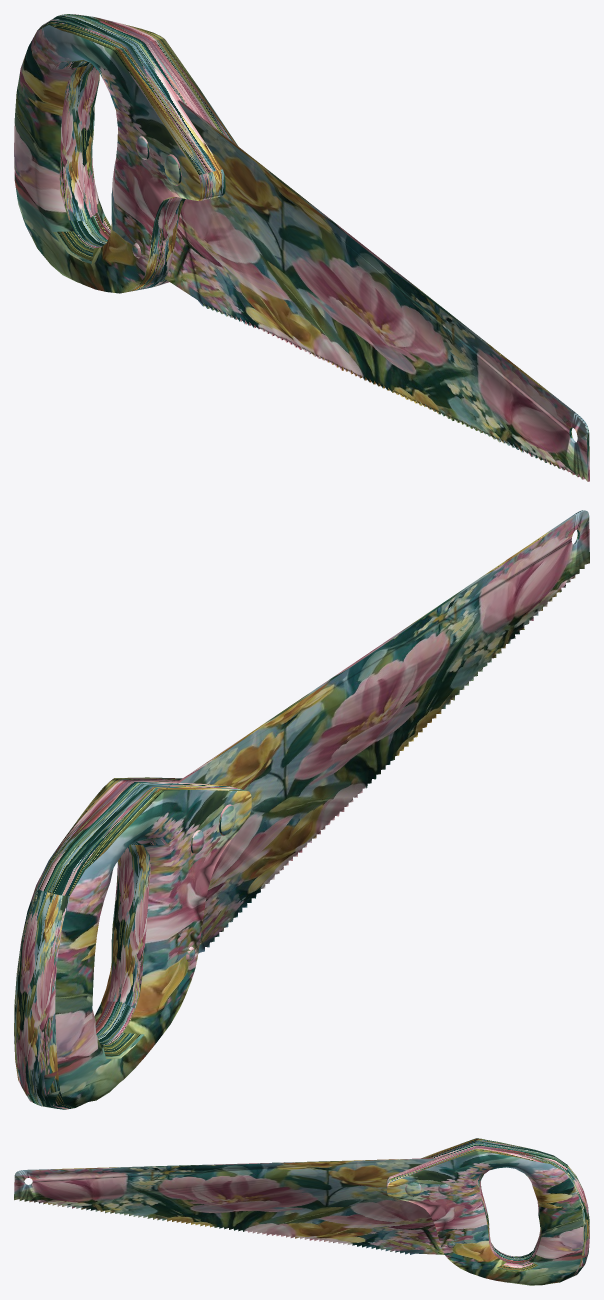
File: ph_handsaw_wood.glb
3 renders of one model, top to bottom at view 1: azimuth 30°, elevation 25°; view 2: azimuth 150°, elevation 25°; view 3: azimuth 270°, elevation 25°, orthographic. The views are drawn at different scales.
Visible parts, largest first — view 1: A; view 2: A; view 3: A.
Part boxes in pixels (bbox=[...]): A: bbox=[14, 14, 589, 481]; A: bbox=[14, 510, 589, 1109]; A: bbox=[14, 1138, 589, 1285].
Bounding box in the file's own units: 0.129 × 0.5261 × 2.
1 material, 1 textured.
